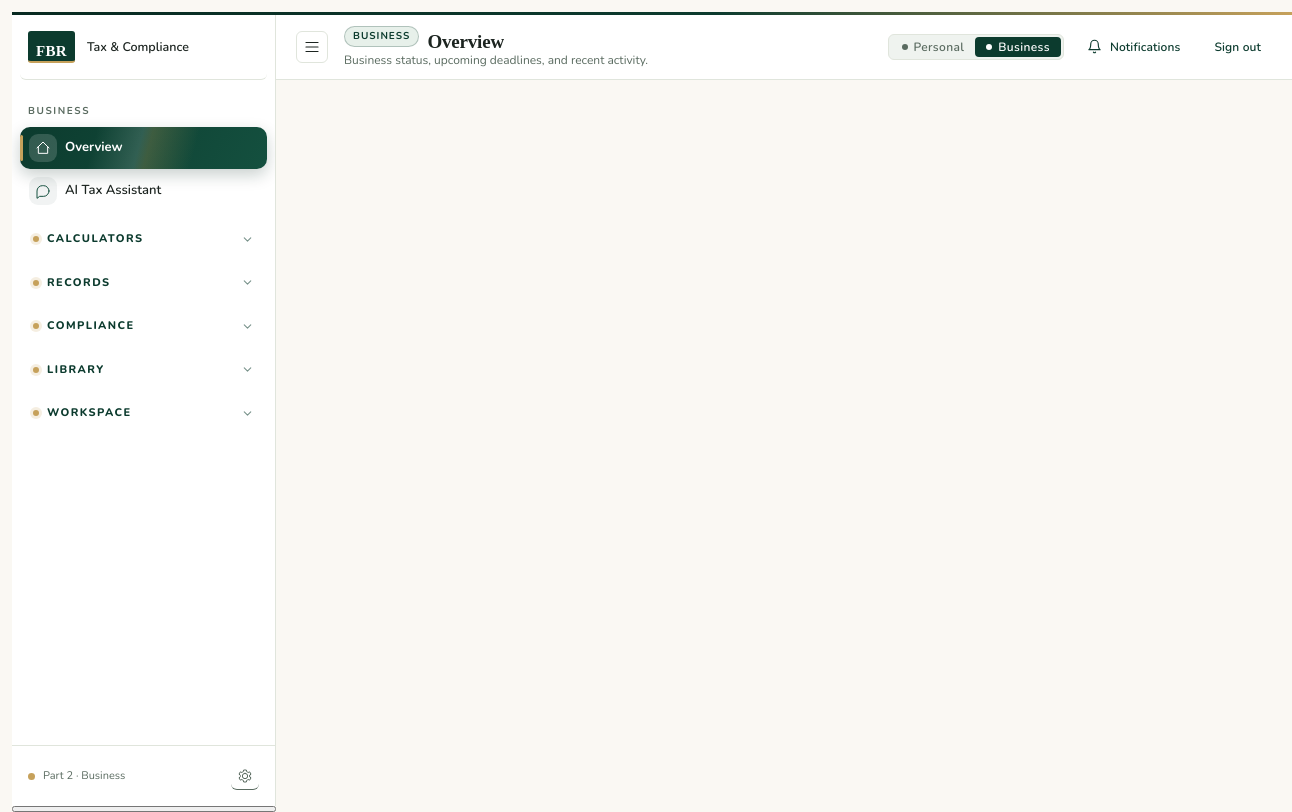
Test: Sidebar parity › both sidebars expose the single Workspace Hub entry
Step 1. Click the button with class "sidebar__group-toggle" showing "Calculators" → (144, 239), box [20, 223, 267, 256]
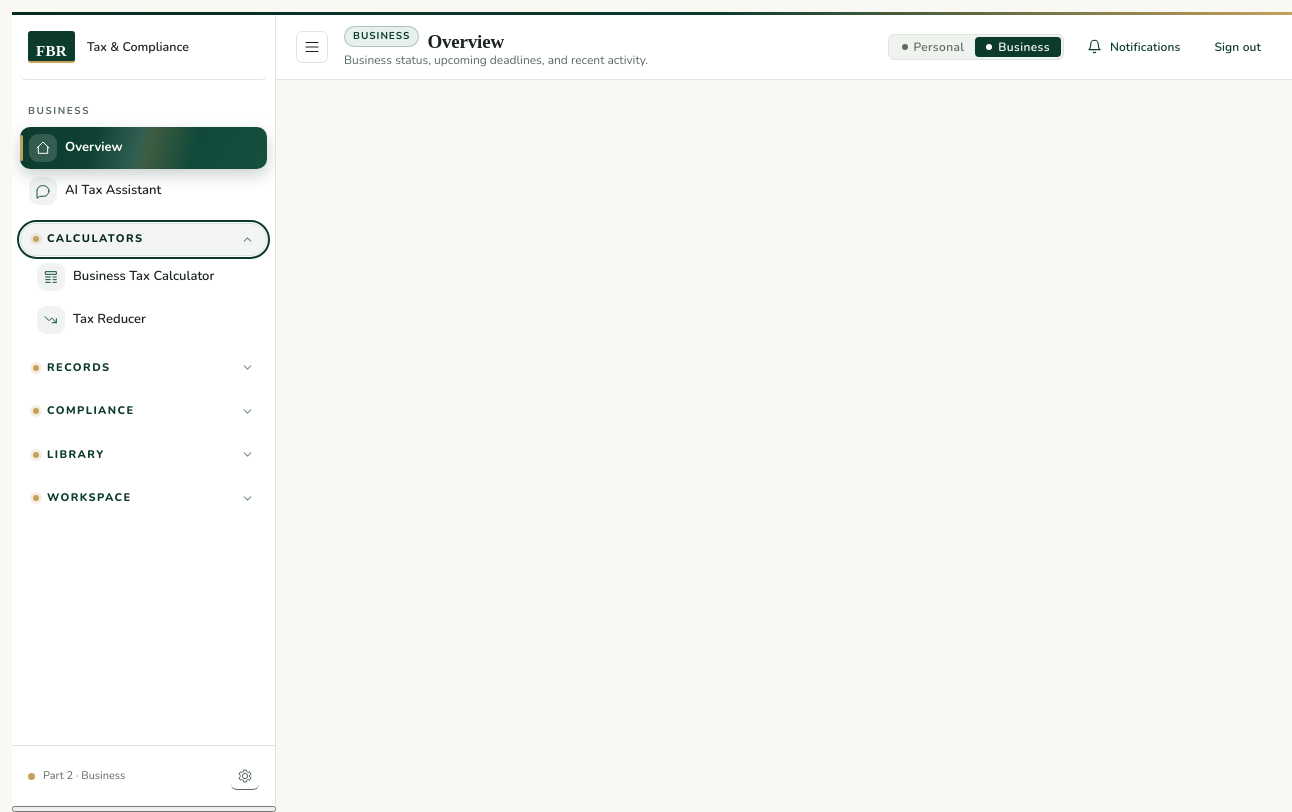
Step 2. Click the button with class "sidebar__group-toggle" showing "Records" → (144, 368), box [20, 352, 267, 384]
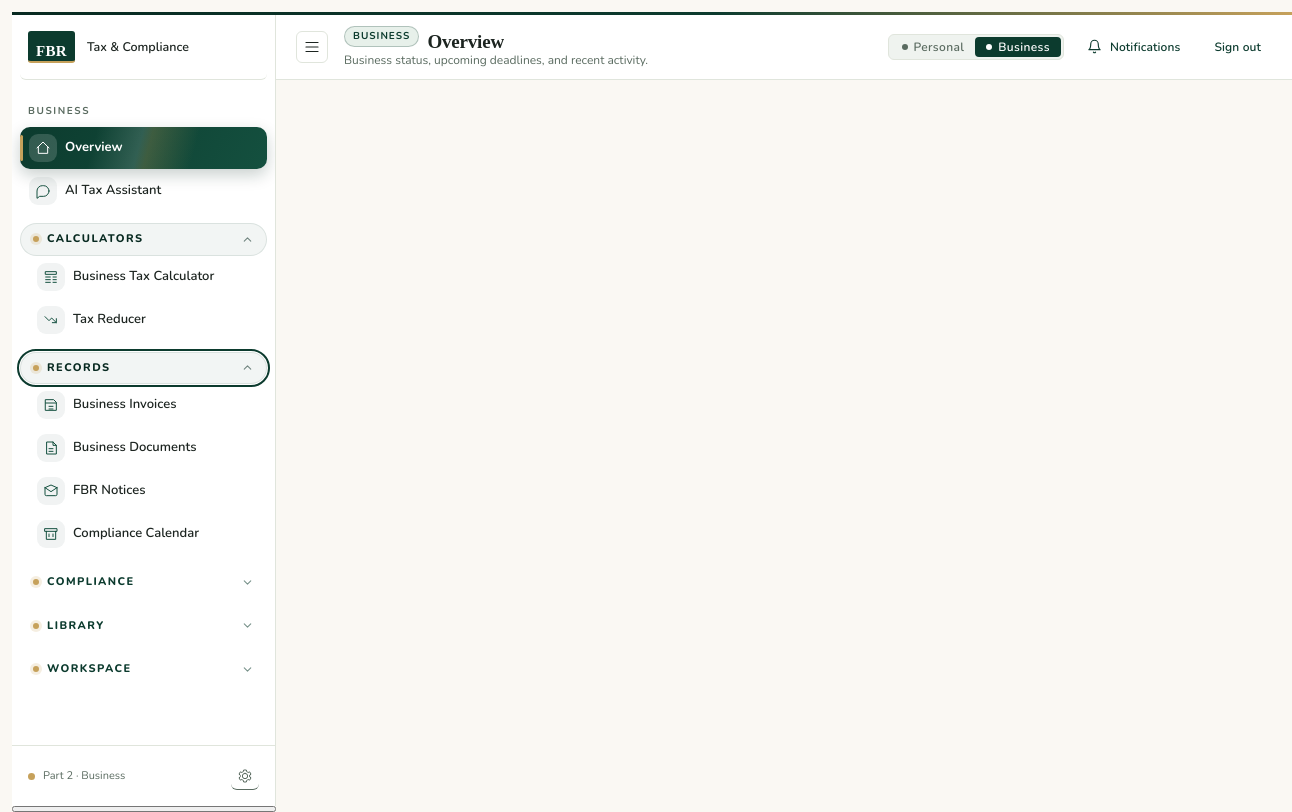
Step 3. Click the button with class "sidebar__group-toggle" showing "Compliance" → (144, 582), box [20, 566, 267, 598]
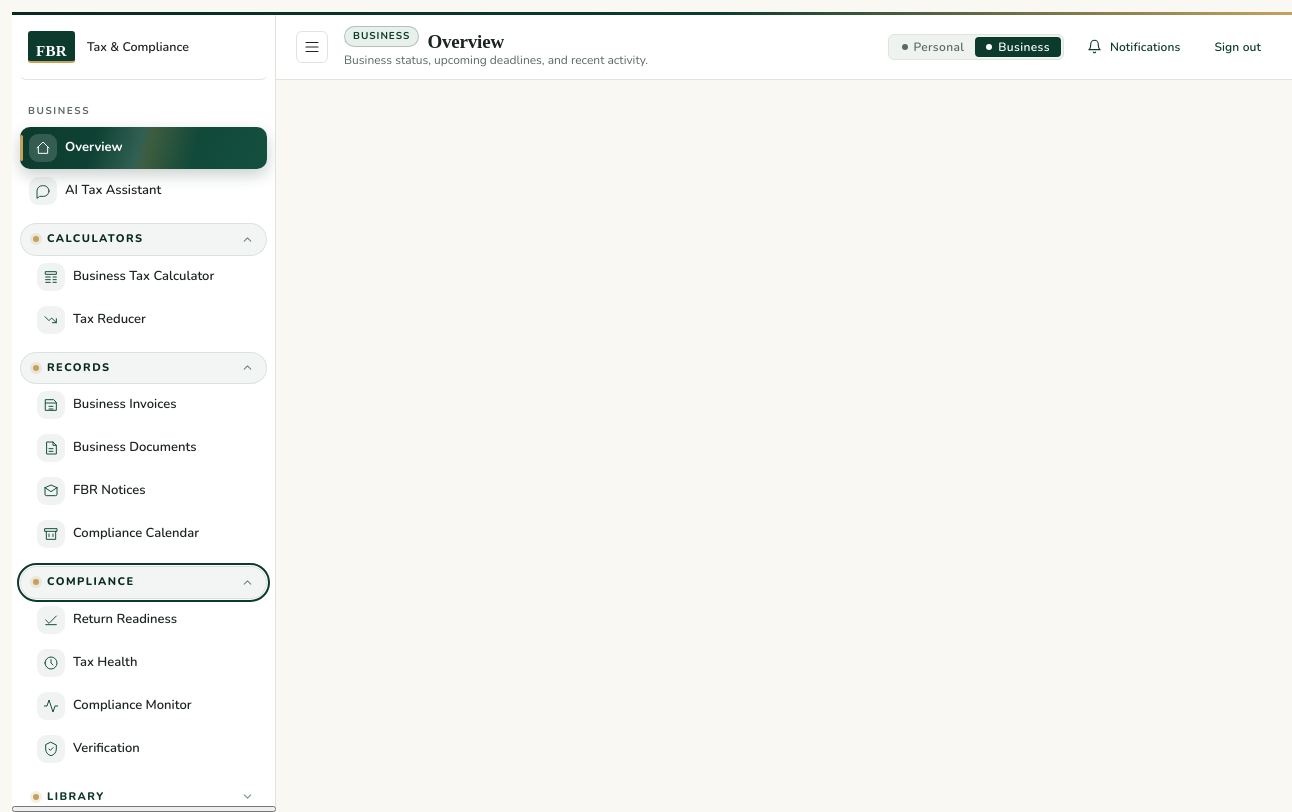
Step 4. Click the button with class "sidebar__group-toggle" showing "Library" → (144, 797), box [20, 780, 267, 811]
(page scrolled)
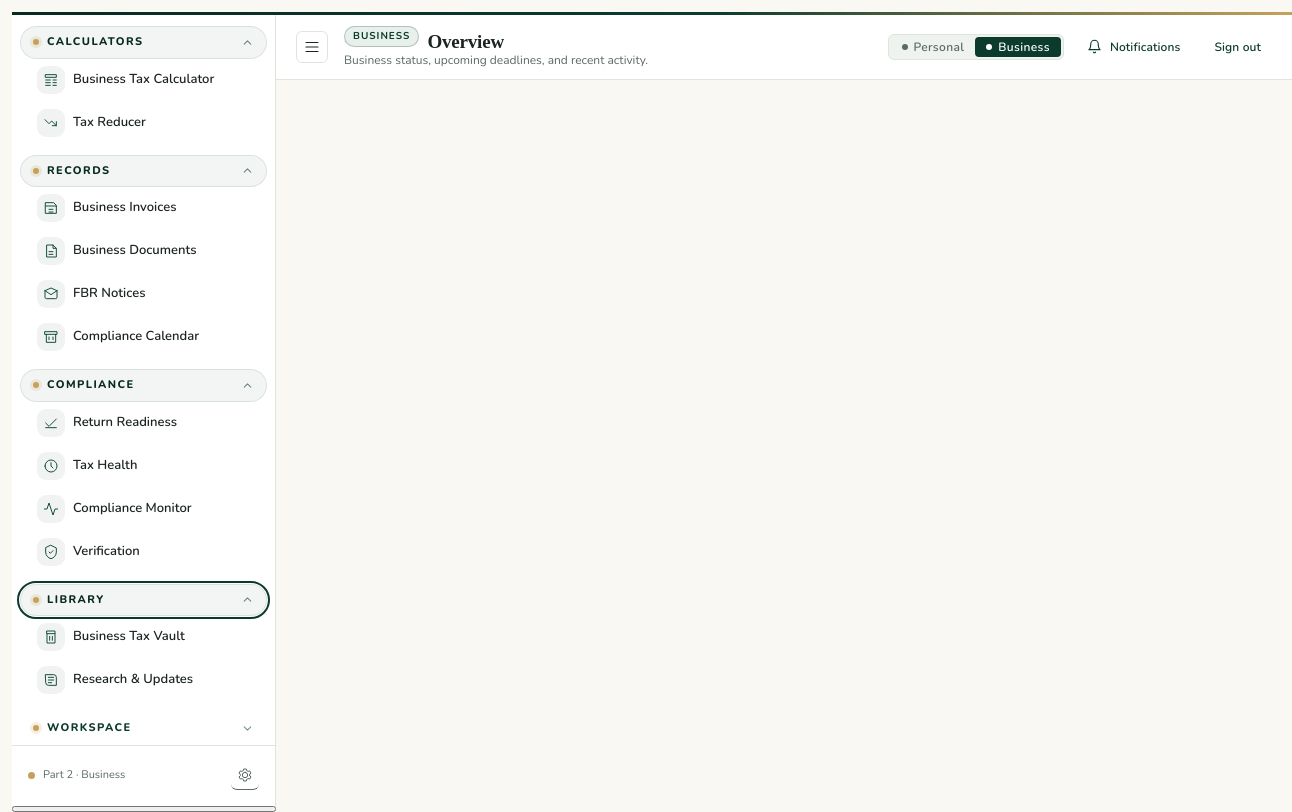
Step 5. Click the button with class "sidebar__group-toggle" showing "Workspace" → (144, 728), box [20, 712, 267, 744]
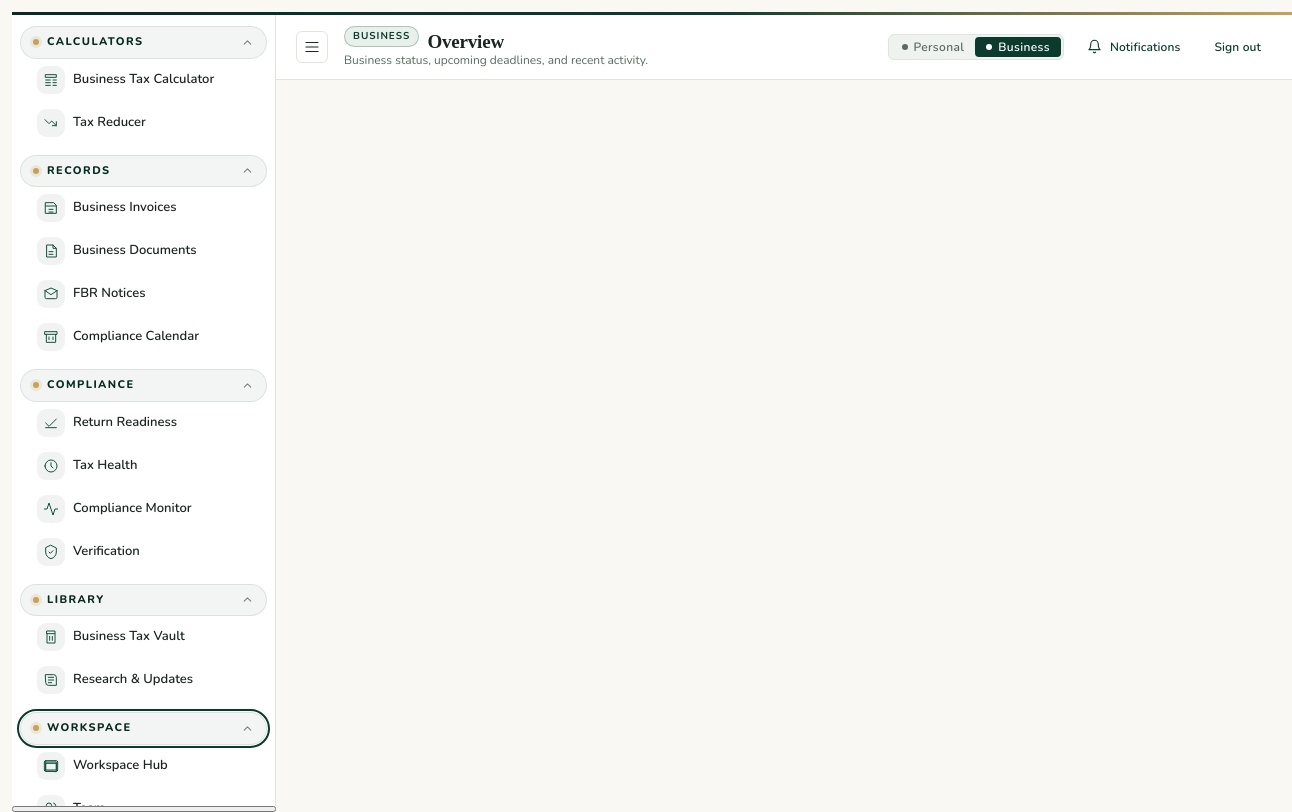
Check: the link "Compliance Monitor" is shown, box [37, 494, 192, 522]
Check: the link "Workspace Hub" is shown, box [37, 752, 168, 780]
